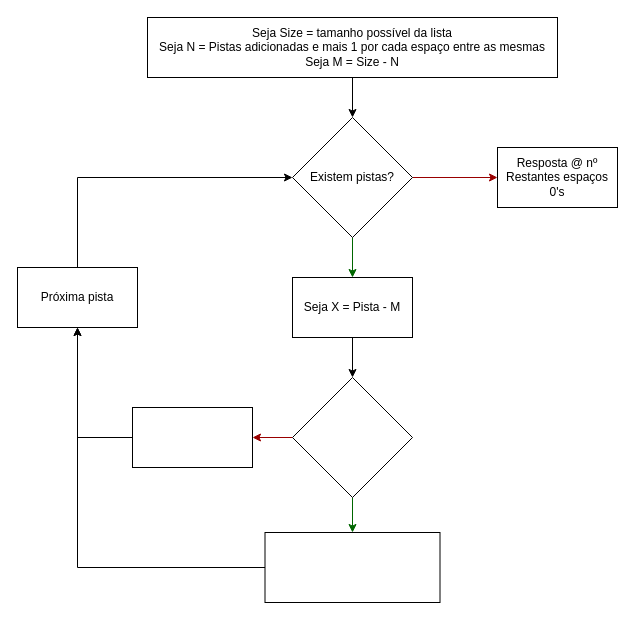
Some shapes in this 635 by 620 pixel diagram are drawn without their labels. Each missing label, with the box of its shape:
Resposta @ M 0's Resposta @ X 1's Resposta @ M 0's: (264, 532, 440, 602)
Resposta @ P 0's: (132, 406, 252, 468)
X > 0?: (292, 376, 412, 498)
